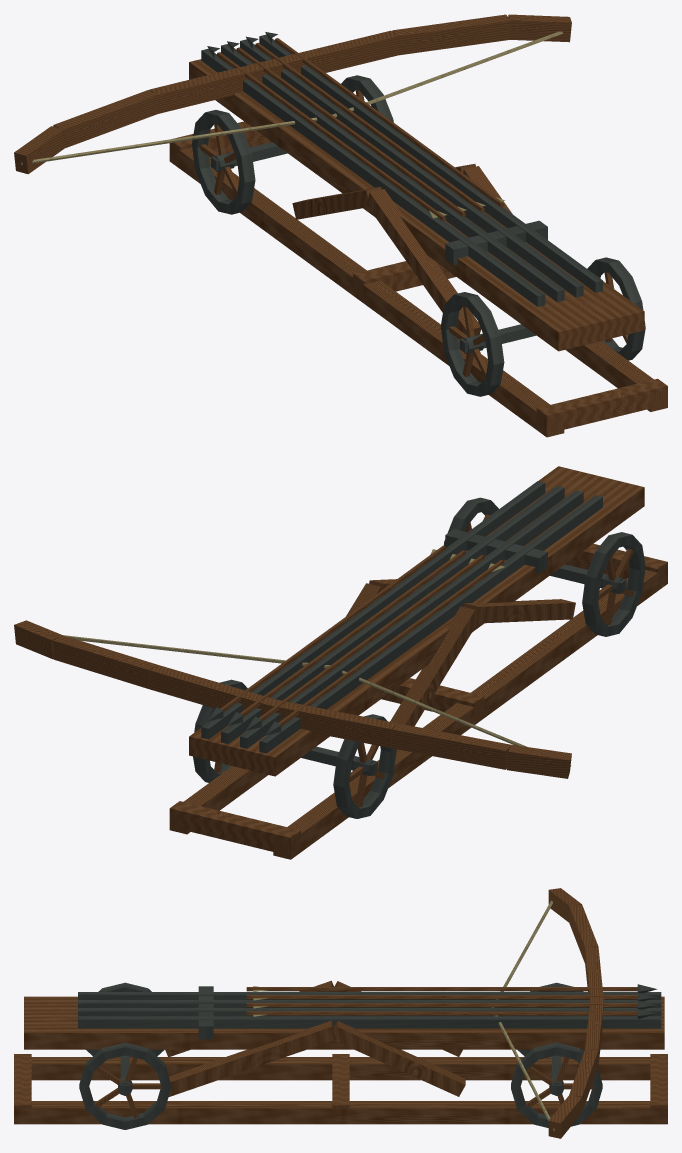
The model's file is arcaballista.glb.
The picture shows the model from 3 angles, top to bottom: view 1: azimuth 30°, elevation 25°; view 2: azimuth 150°, elevation 25°; view 3: azimuth 270°, elevation 25°; orthographic projection. The views are drawn at different scales.
Parts seen in each view (by area): view 1: barrel, turntable, frame; view 2: barrel, turntable, frame; view 3: barrel, frame, turntable.
Boxes of the visible parts, <box> form: barrel: <box>14,14,644,351</box>; turntable: <box>192,75,645,396</box>; frame: <box>169,121,667,437</box>; barrel: <box>14,466,644,778</box>; turntable: <box>193,497,645,818</box>; frame: <box>169,543,667,859</box>; barrel: <box>24,888,664,1138</box>; frame: <box>14,1054,667,1124</box>; turntable: <box>79,980,602,1129</box>.
Bounding box in the file's own units: 8.26 × 1.67 × 9.7.
Materials: 1 (1 with a texture image).
